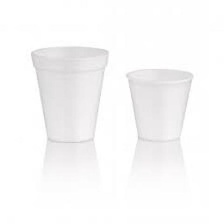paper_cup: (26, 40, 111, 148), (120, 62, 196, 146)
